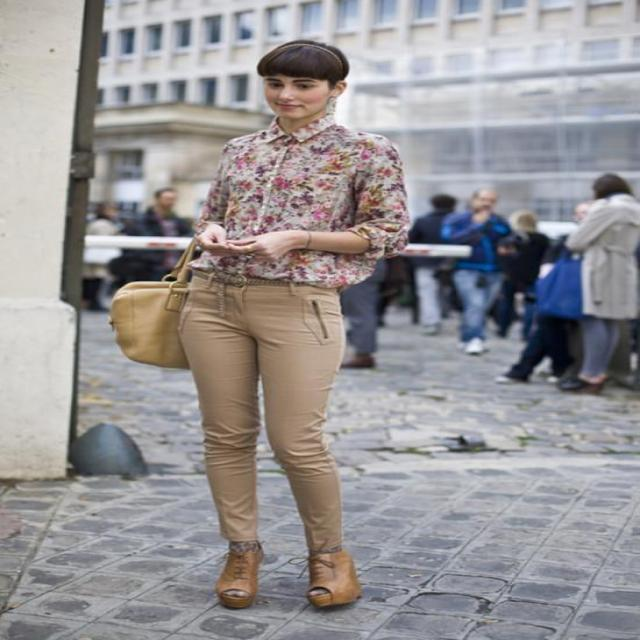pants: (179, 274, 347, 551)
shirt: (187, 116, 412, 292)
